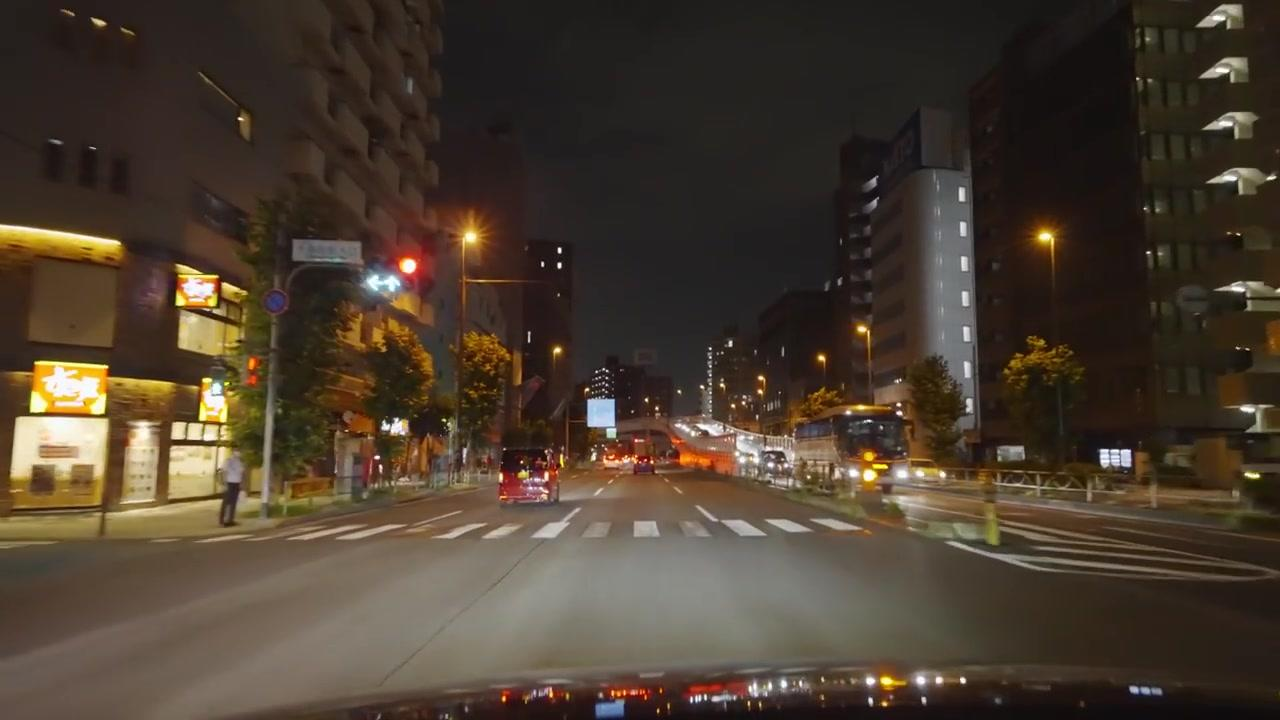bus: (794, 405, 909, 493), (498, 447, 561, 505)
car: (884, 458, 945, 487), (633, 457, 656, 475)
person: (218, 448, 245, 527)
traffic light: (396, 252, 421, 293), (245, 356, 262, 388)
